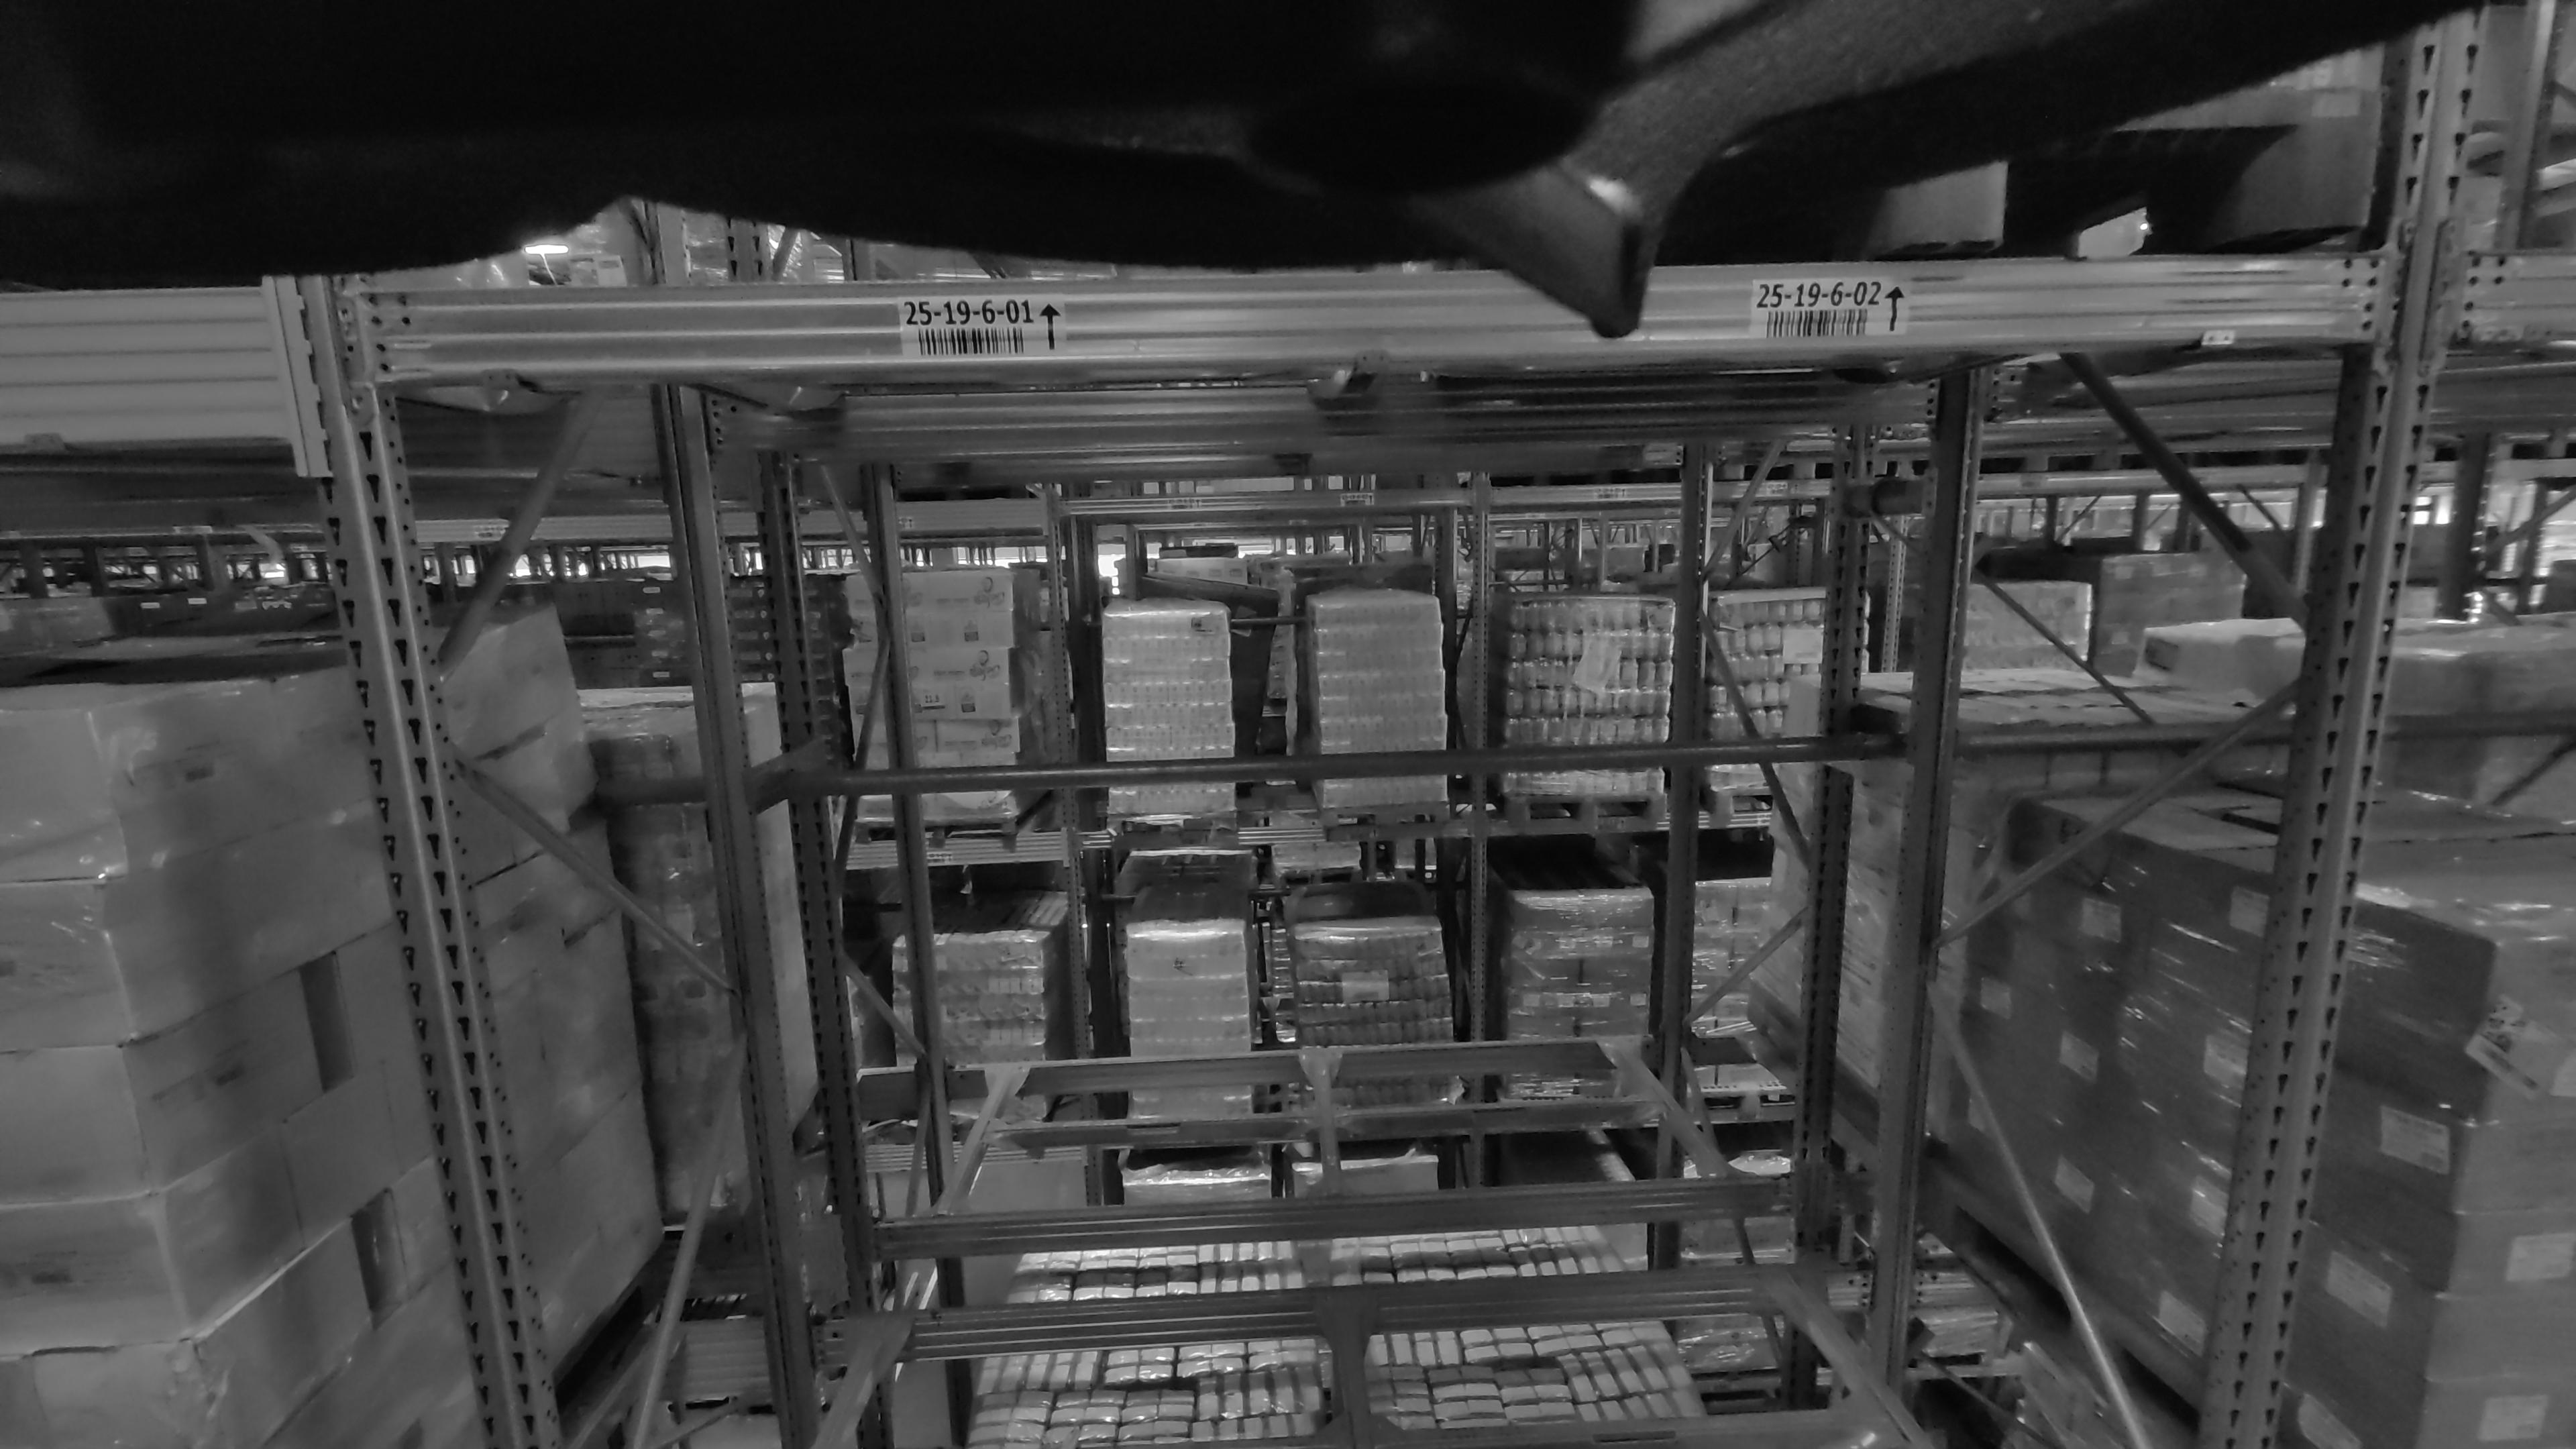empty-shelf: (1463, 359, 1948, 1449), (865, 375, 1345, 1449), (934, 465, 1316, 1214), (1362, 430, 1720, 1184)
